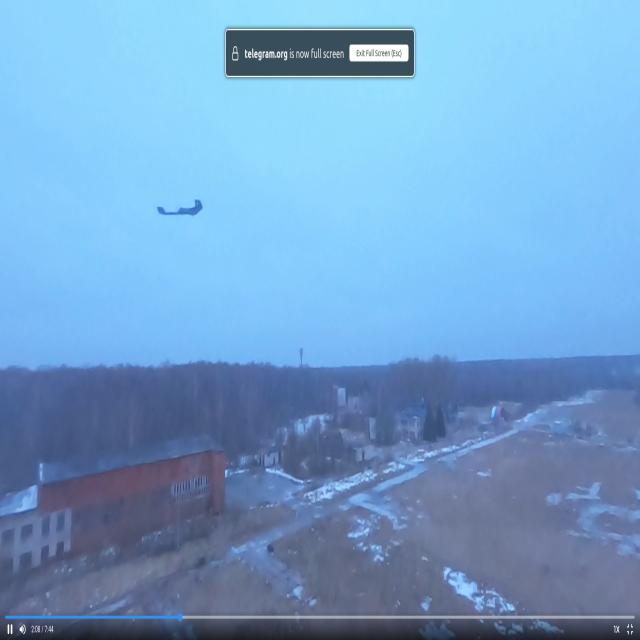planedrone: (156, 198, 204, 224)
